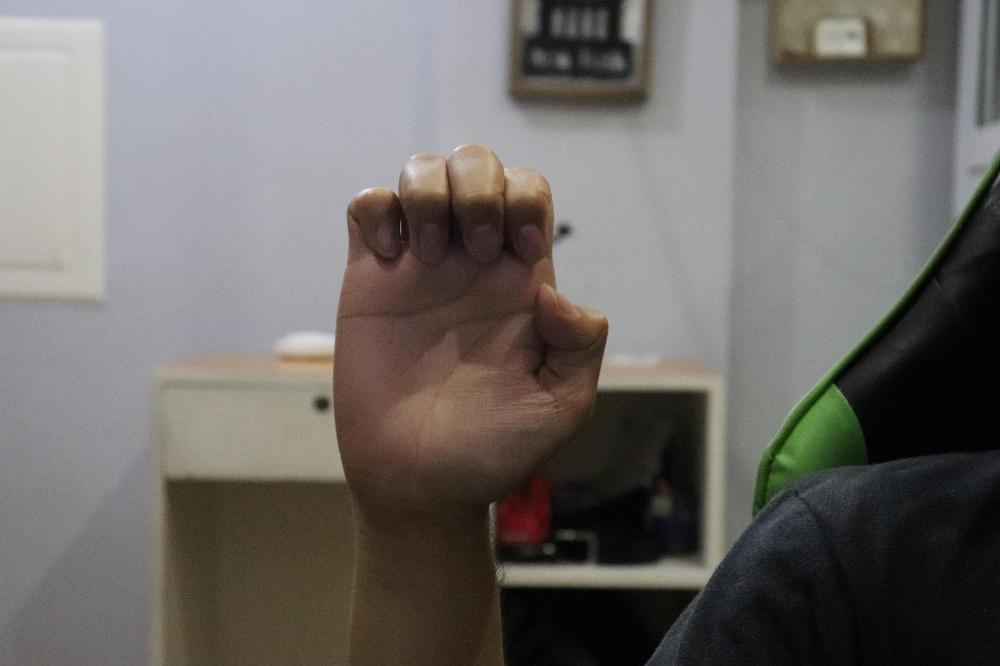e: (331, 143, 608, 506)
